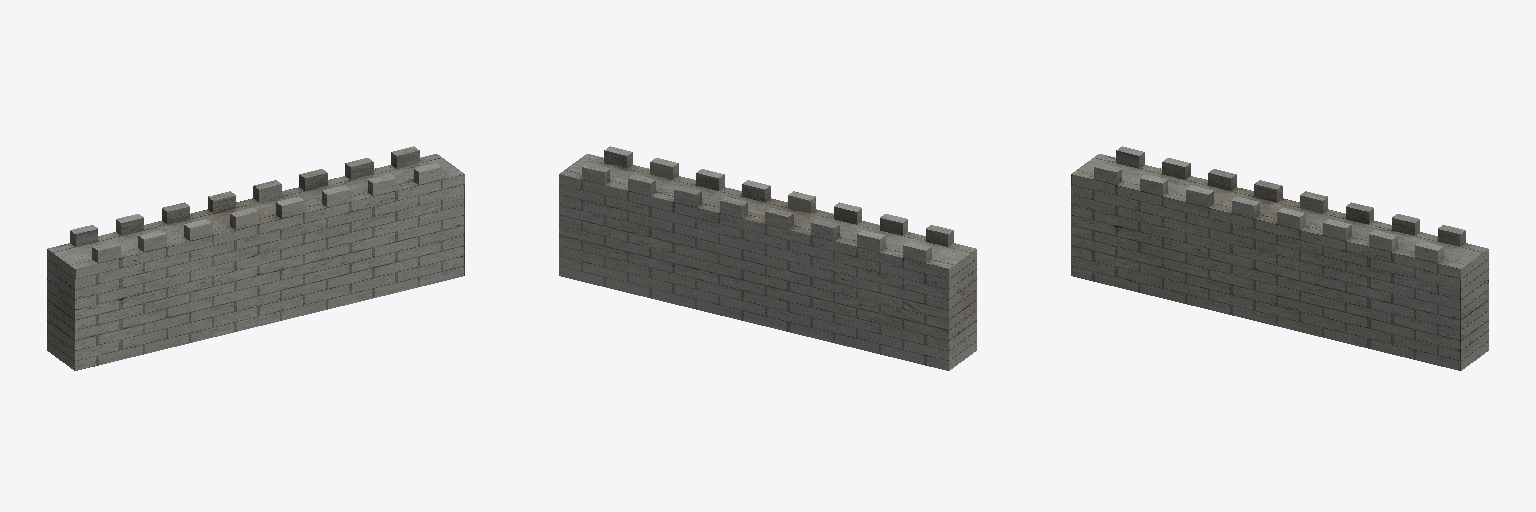
The picture shows the model from 3 angles: view 1: azimuth 30°, elevation 25°; view 2: azimuth 150°, elevation 25°; view 3: azimuth 330°, elevation 25°; orthographic projection.
Visible parts, largest first — view 1: castle-wall1_Cube; view 2: castle-wall1_Cube; view 3: castle-wall1_Cube.
Part boxes in pixels (x1,y1,x2,y2): castle-wall1_Cube: (47,146,464,370); castle-wall1_Cube: (559,146,976,370); castle-wall1_Cube: (1071,146,1488,370).
Size of the model in its own units: 16 by 4.5 by 2.
1 materials, 1 textured.